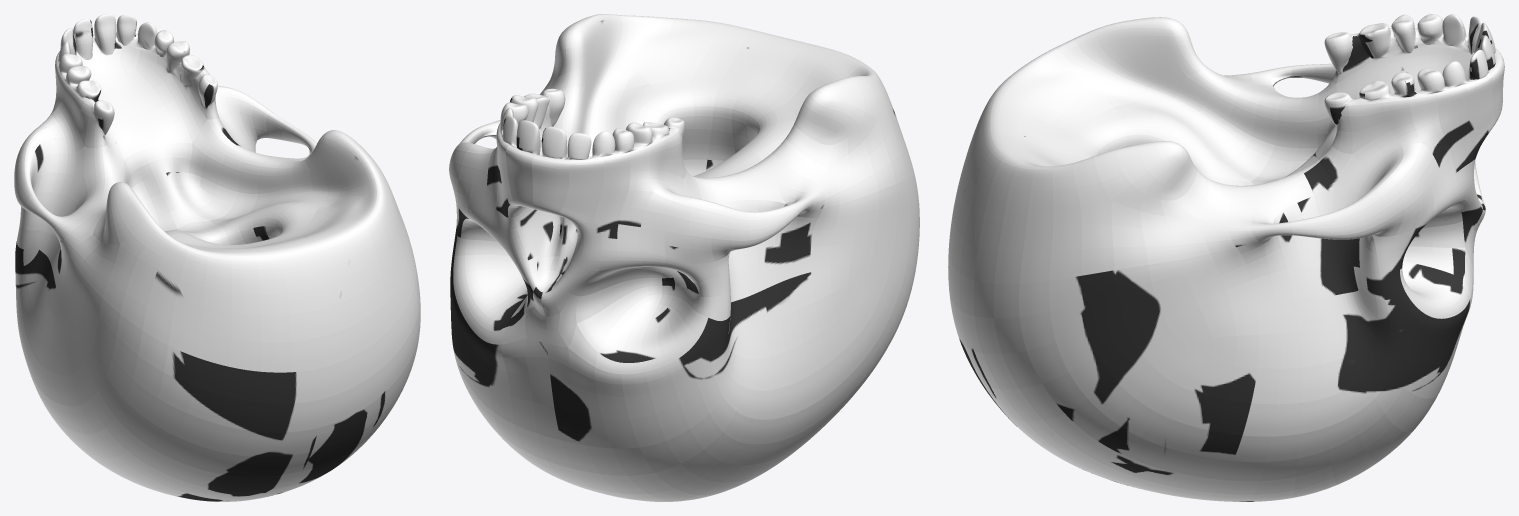
File: Skull_head_high.obj
3 renders of one model, left to right at view 1: azimuth 30°, elevation 25°; view 2: azimuth 150°, elevation 25°; view 3: azimuth 270°, elevation 25°, orthographic. The views are drawn at different scales.
Parts seen in each view (by area): view 1: Human_Skull.062; view 2: Human_Skull.062; view 3: Human_Skull.062.
Part boxes in pixels (<box>): Human_Skull.062: <box>14,14,420,501</box>; Human_Skull.062: <box>449,14,919,501</box>; Human_Skull.062: <box>948,14,1504,501</box>.
Size of the model in its own units: 5.67 by 6.67 by 7.52.
